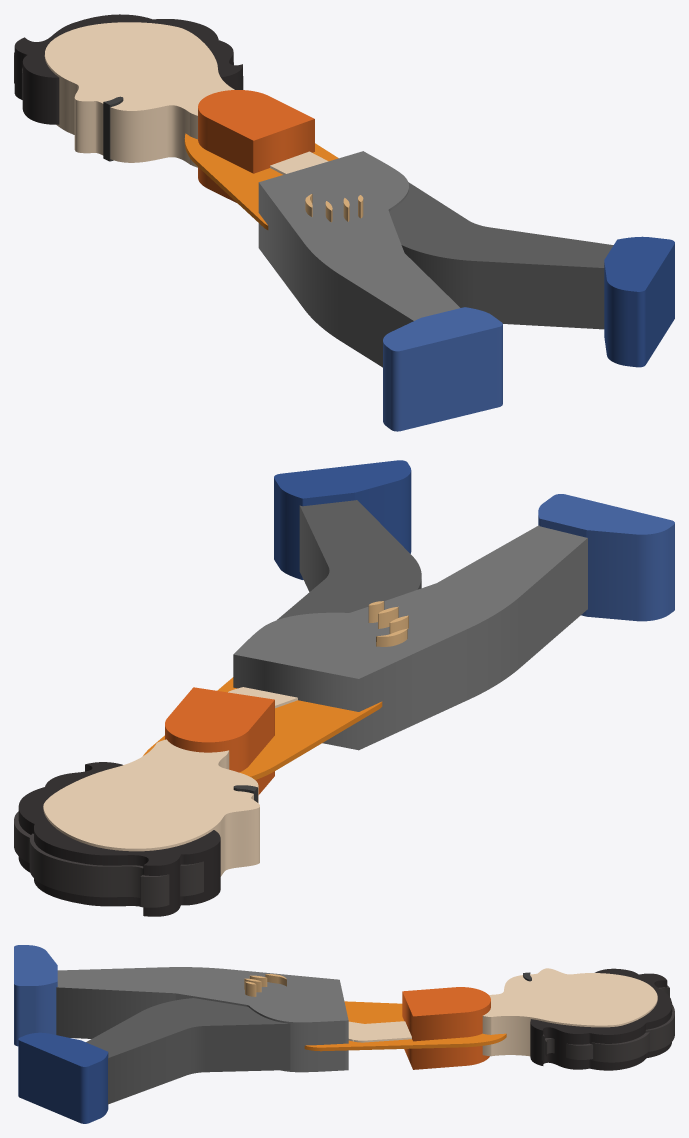
The model's file is emoji_u1f6b6_1f3fb.glb.
3 views of the same model, one above another, from view 1: azimuth 30°, elevation 25°; view 2: azimuth 150°, elevation 25°; view 3: azimuth 270°, elevation 25° (orthographic). The views are drawn at different scales.
Visible parts, largest first — view 1: emoji_u1f6b6_1f3fb; view 2: emoji_u1f6b6_1f3fb; view 3: emoji_u1f6b6_1f3fb.
Boxes of the visible parts, bbox=[...] form: emoji_u1f6b6_1f3fb: bbox=[14, 14, 674, 431]; emoji_u1f6b6_1f3fb: bbox=[14, 460, 674, 916]; emoji_u1f6b6_1f3fb: bbox=[14, 945, 674, 1123].
Size of the model in its own units: 0.0145 by 0.0042 by 0.0336.
